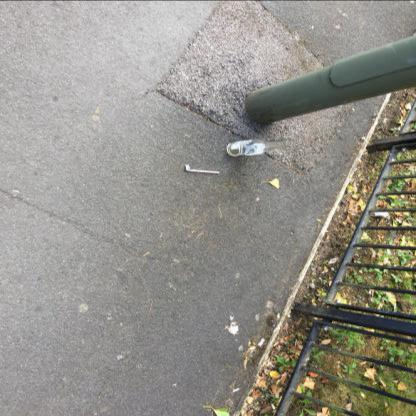Bottle cap: (226, 139, 292, 157)
Straw: (185, 164, 219, 173)
Unlabeled litter: (374, 212, 388, 216)
